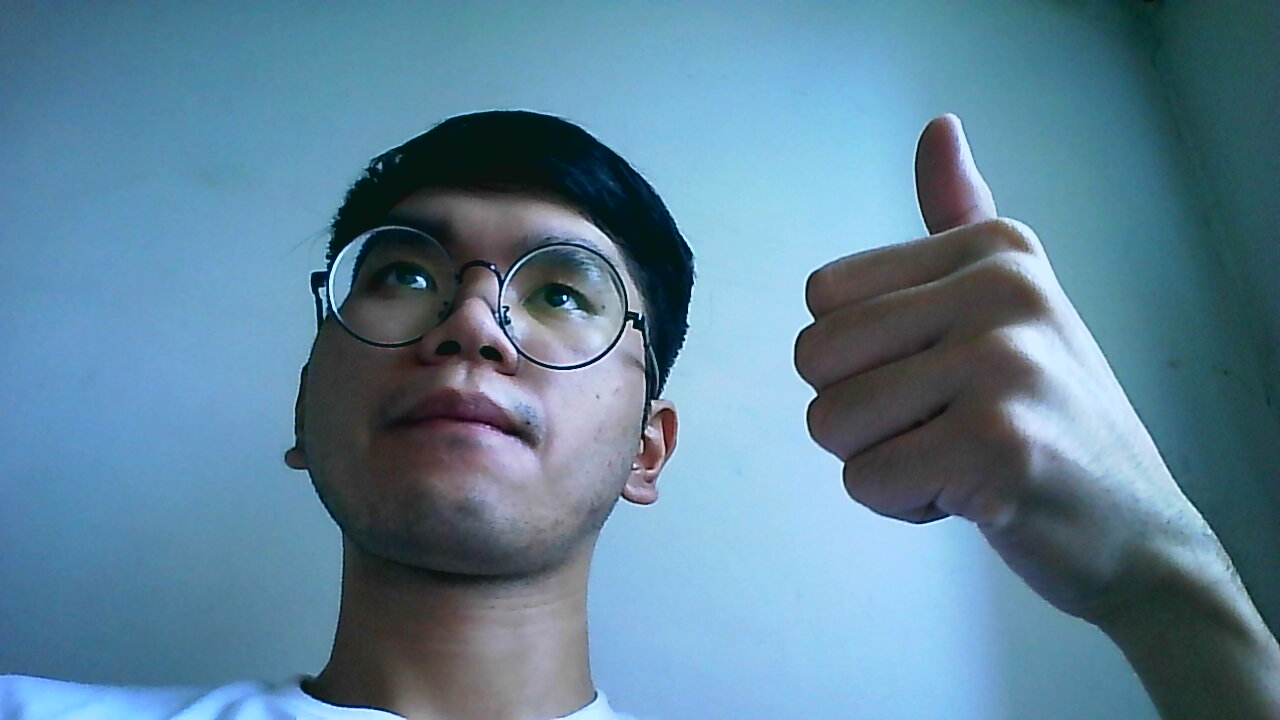thumbs: (796, 114, 1190, 601)
